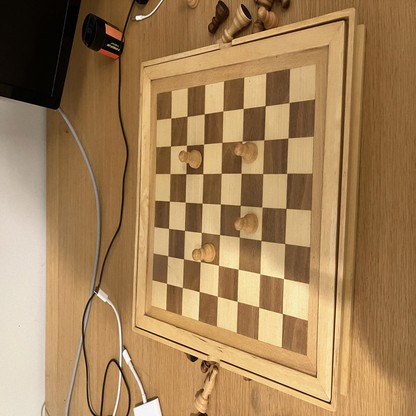bishop_white: (193, 368, 219, 412)
pawn_black: (207, 1, 227, 35)
pawn_white: (234, 142, 257, 165), (235, 213, 258, 234), (258, 7, 278, 30), (179, 150, 203, 169), (192, 244, 216, 263)
